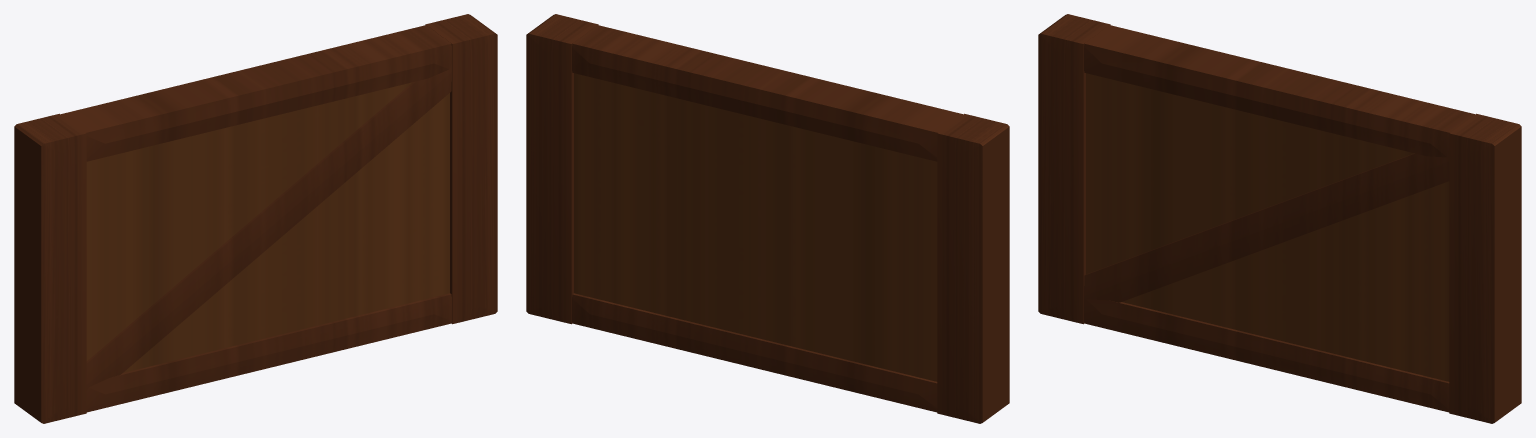
The model's file is Half_Wall_R_Slash_Wood.fbx.
3 views of the same model, side by side, from view 1: azimuth 30°, elevation 25°; view 2: azimuth 150°, elevation 25°; view 3: azimuth 330°, elevation 25° (orthographic).
Visible parts, largest first — view 1: Half_Wall_R_Slash_Wood; view 2: Half_Wall_R_Slash_Wood; view 3: Half_Wall_R_Slash_Wood.
Boxes of the visible parts, x1,y1,x2,y2 form: Half_Wall_R_Slash_Wood: (14,14,497,423); Half_Wall_R_Slash_Wood: (526,14,1009,423); Half_Wall_R_Slash_Wood: (1038,14,1521,423).
Size of the model in its own units: 212 by 124 by 23.4.
